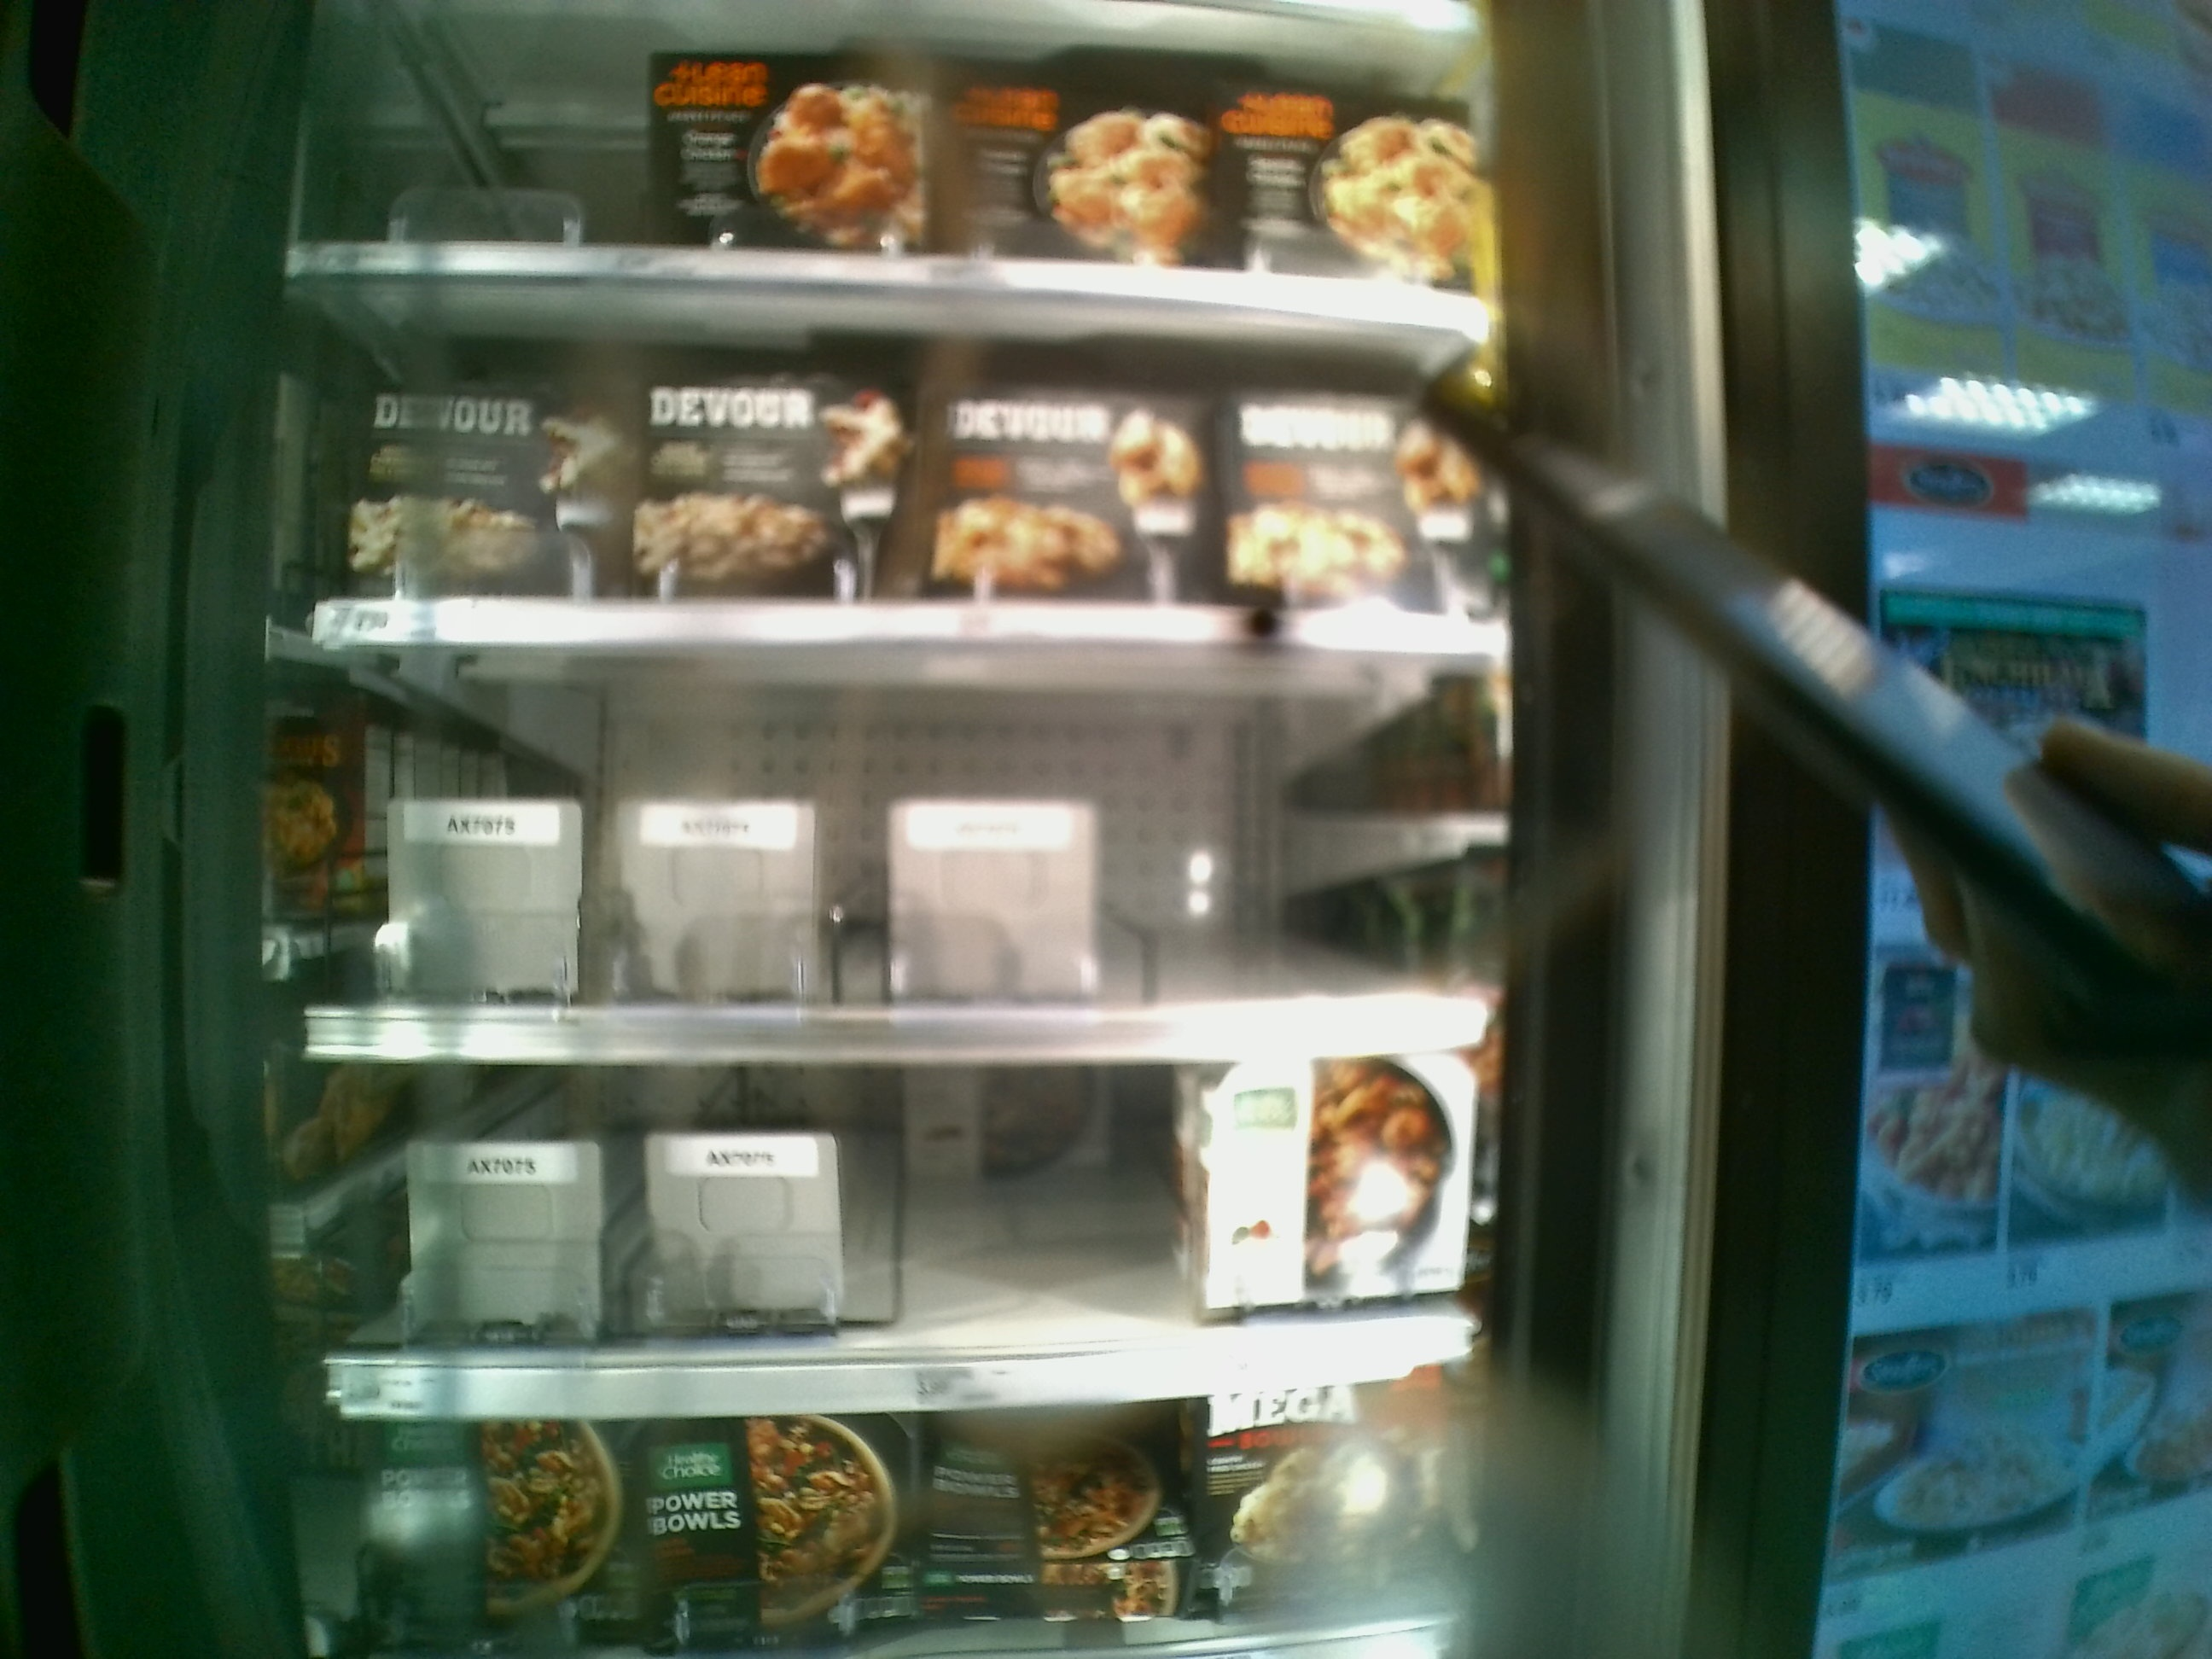shelf: (280, 641, 1498, 1054), (308, 1053, 1468, 1413)
